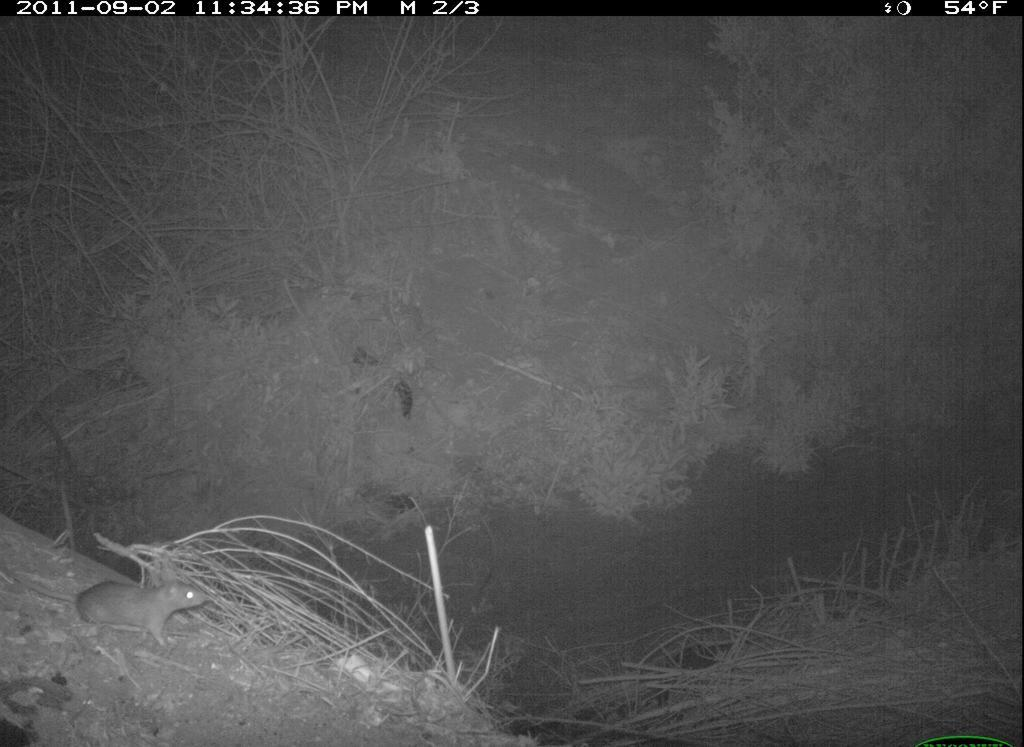rodent: (2, 553, 221, 652)
